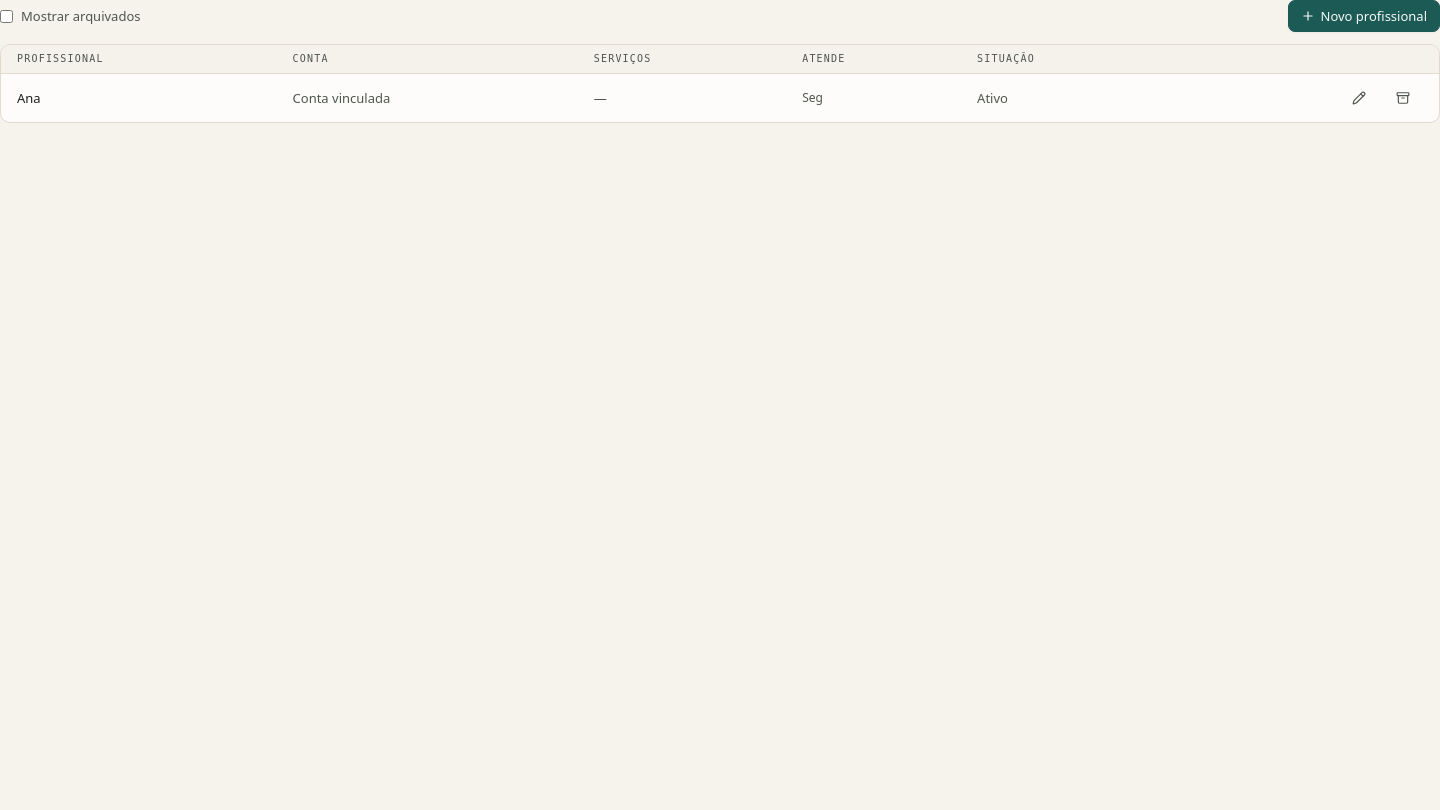
Test: drawer do profissional — limites de salvamento e o aviso do vínculo › serviços que FALHAM ao carregar: o editor não monta, e nada pode ser salvo
What coordinates should you click on to do the following:
click the button named "Editar Ana"
I would click on:
 (1359, 98)
Its box is [1339, 82, 1379, 114].
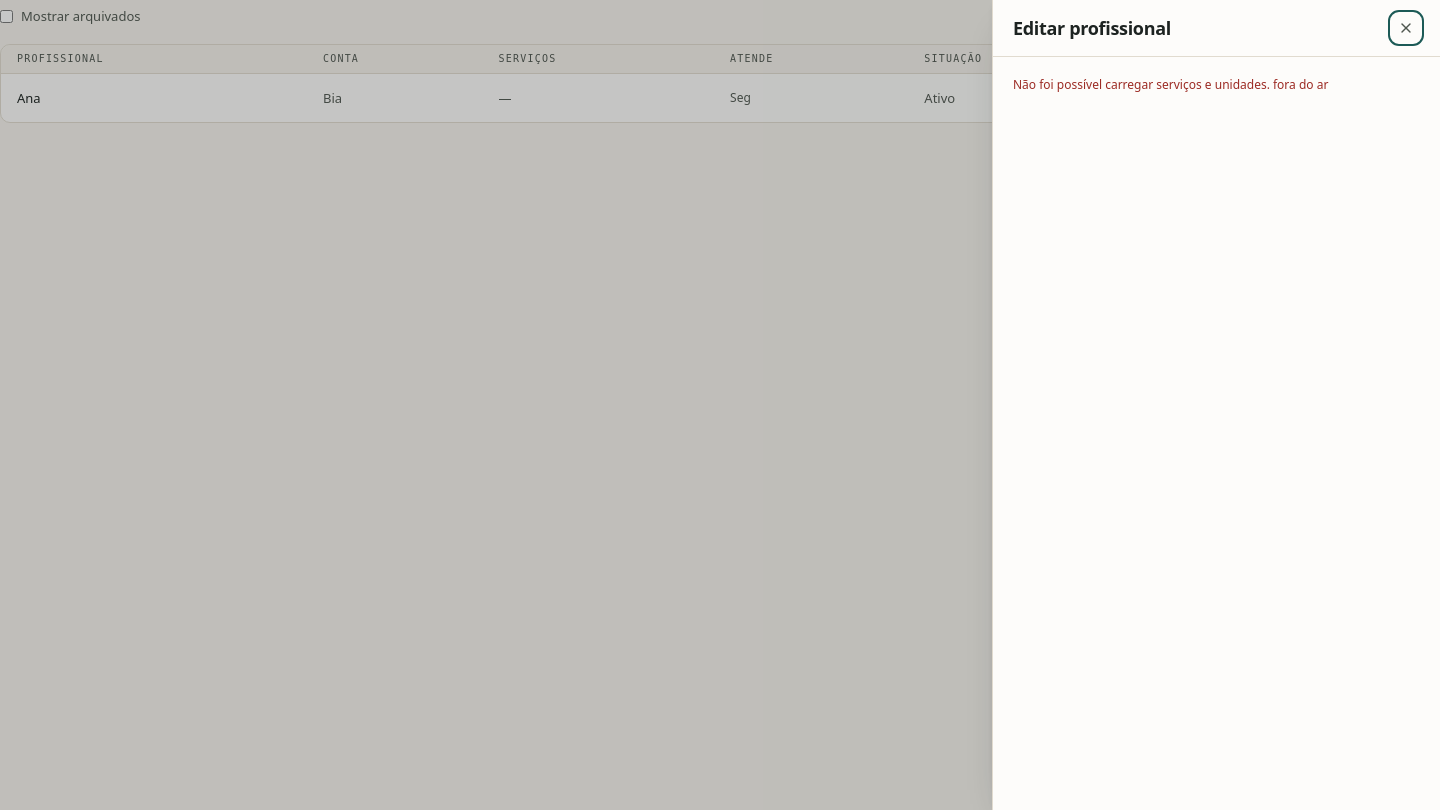
expect the text "Não foi possível carregar serviços e unidades. fora do ar" is shown: met, box [1013, 76, 1328, 93]
